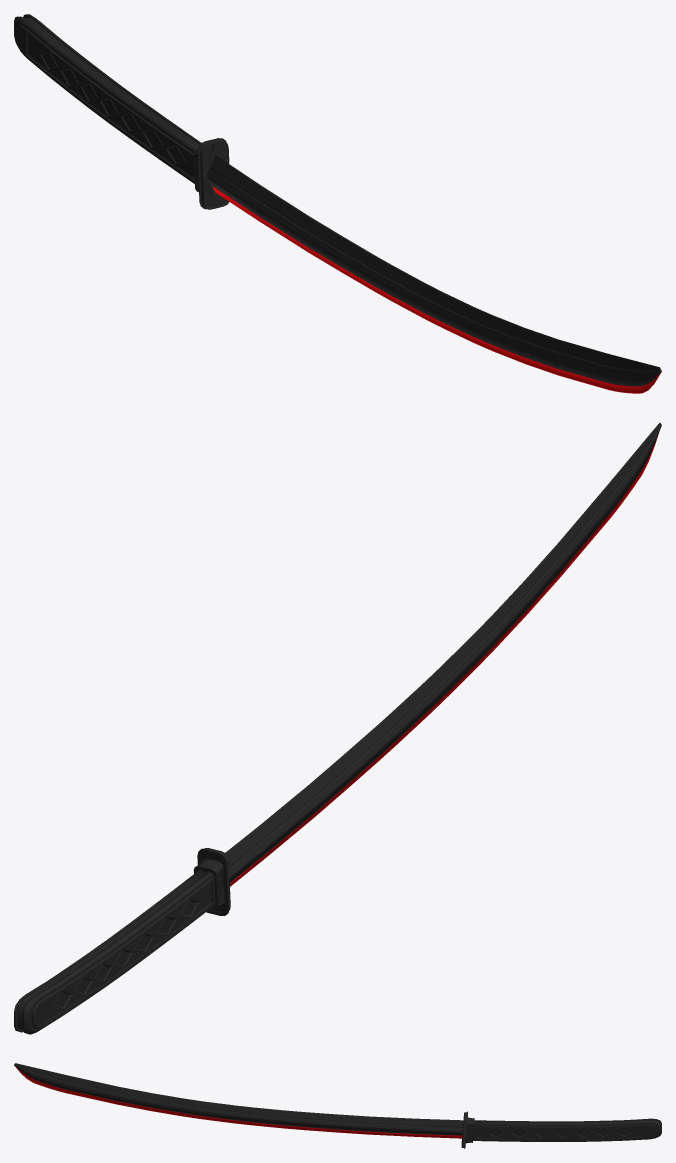
Rendered from Heat-KatanaV2.fbx.
The picture shows the model from 3 angles, top to bottom: view 1: azimuth 30°, elevation 25°; view 2: azimuth 150°, elevation 25°; view 3: azimuth 270°, elevation 25°; orthographic projection. The views are drawn at different scales.
Visible parts, largest first — view 1: Heat-Katana; view 2: Heat-Katana; view 3: Heat-Katana.
Boxes of the visible parts, left/top/right/bottom form: Heat-Katana: left=14, top=14, right=661, bottom=393; Heat-Katana: left=14, top=422, right=661, bottom=1034; Heat-Katana: left=14, top=1063, right=661, bottom=1148.
Bounding box in the file's own units: 8.39 × 44.96 × 315.
